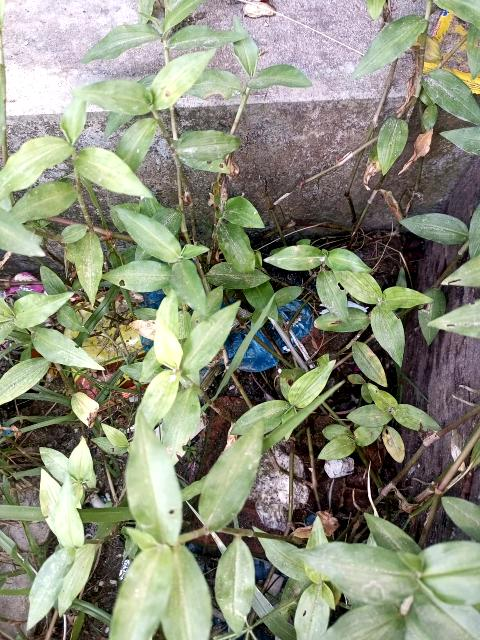polythene: (213, 271, 335, 403)
